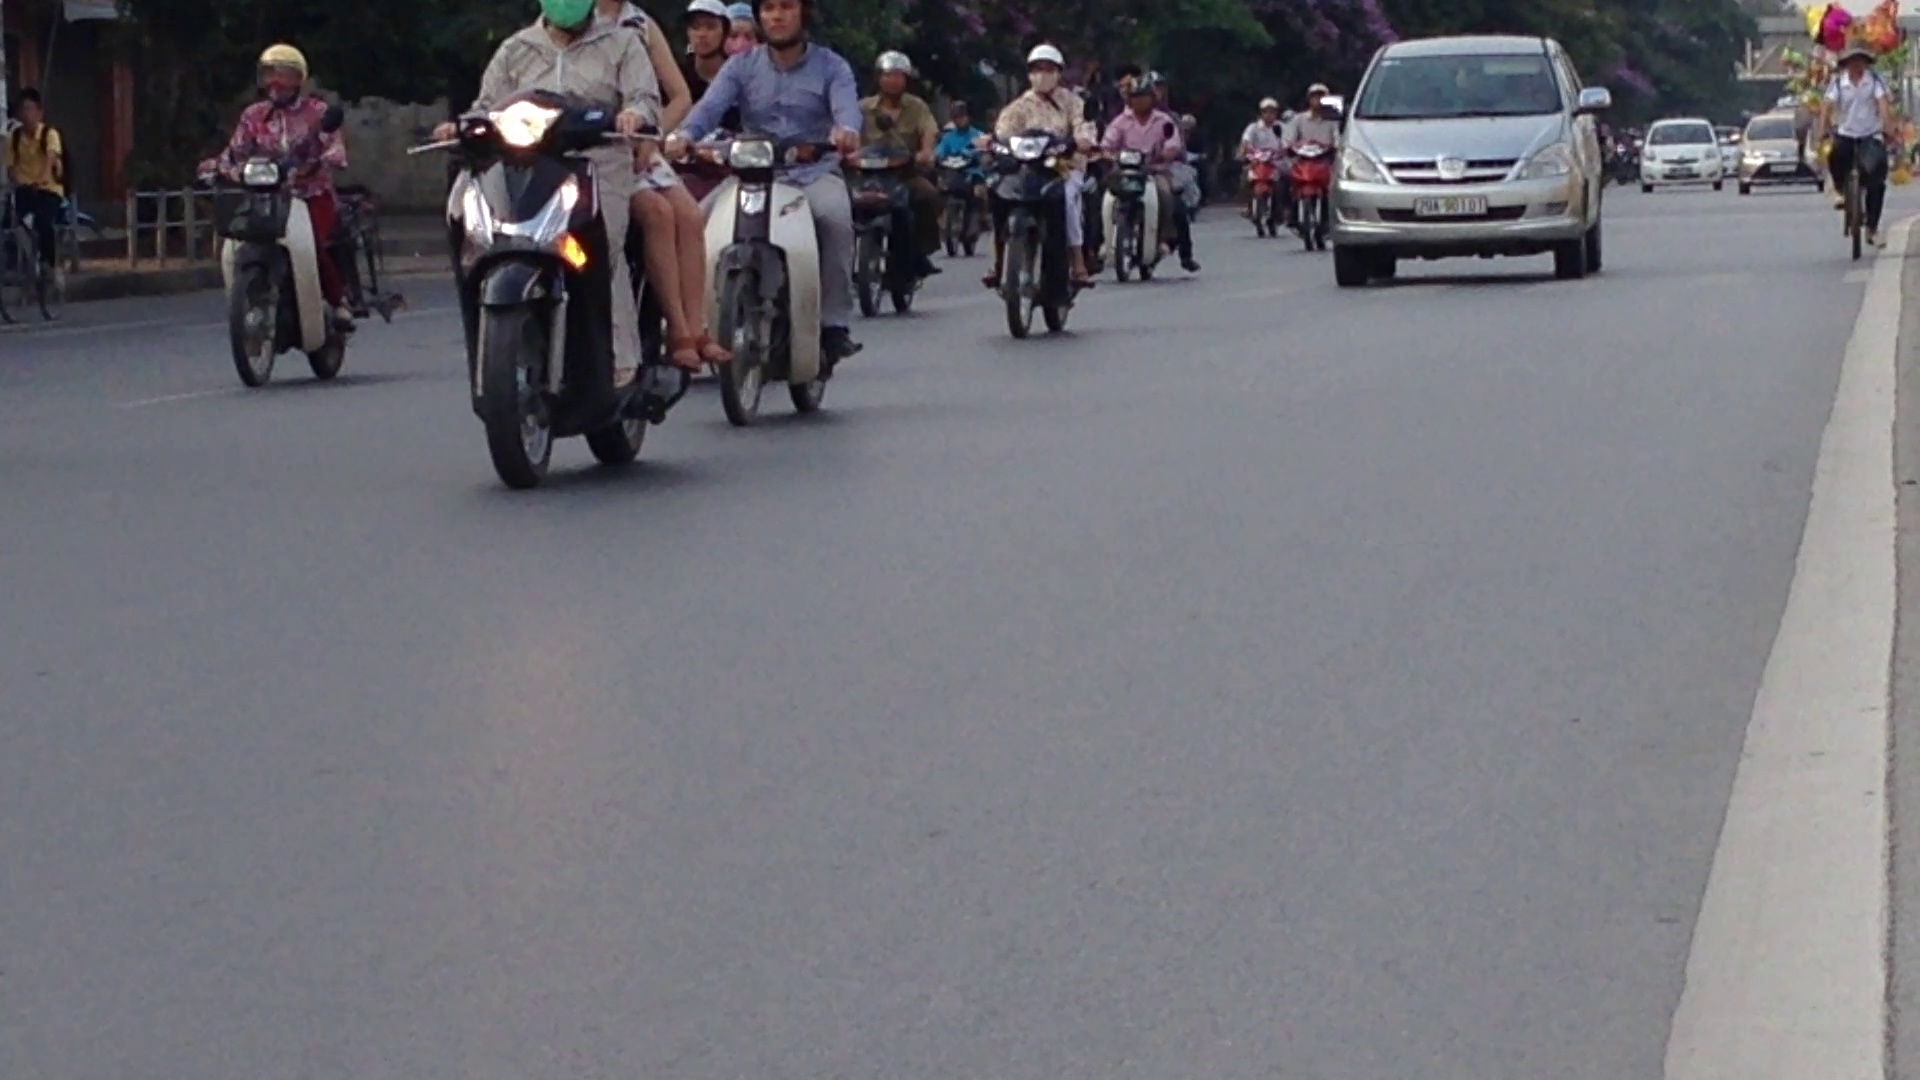vehicle-plate: (1409, 190, 1492, 220)
